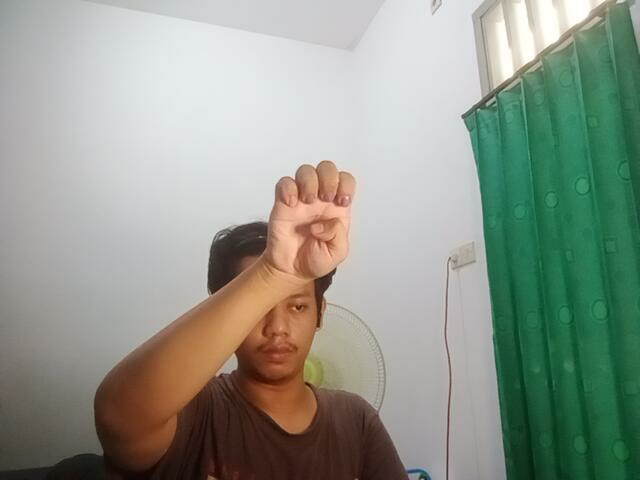E: (256, 157, 363, 276)
